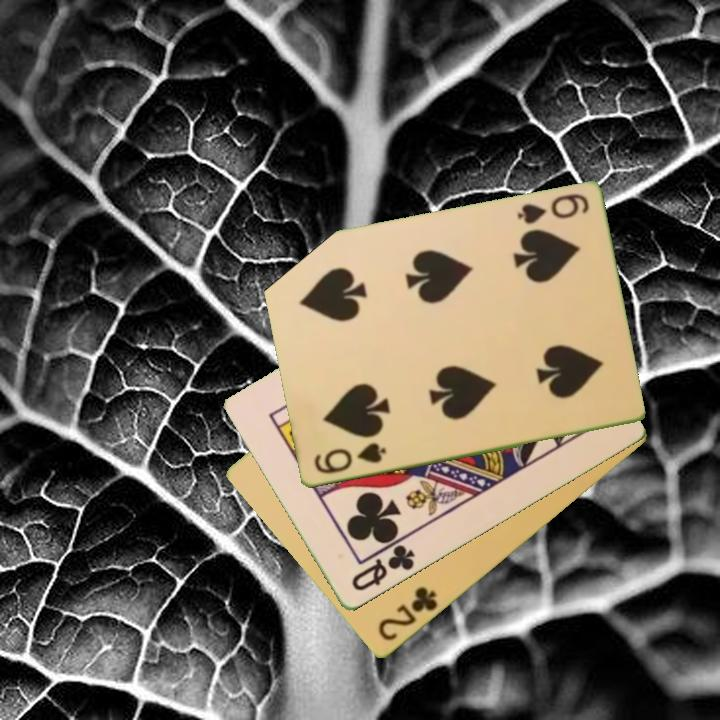2c: (374, 583, 441, 645)
6s: (310, 439, 389, 478), (513, 190, 592, 228)
Qc: (347, 541, 418, 595)
